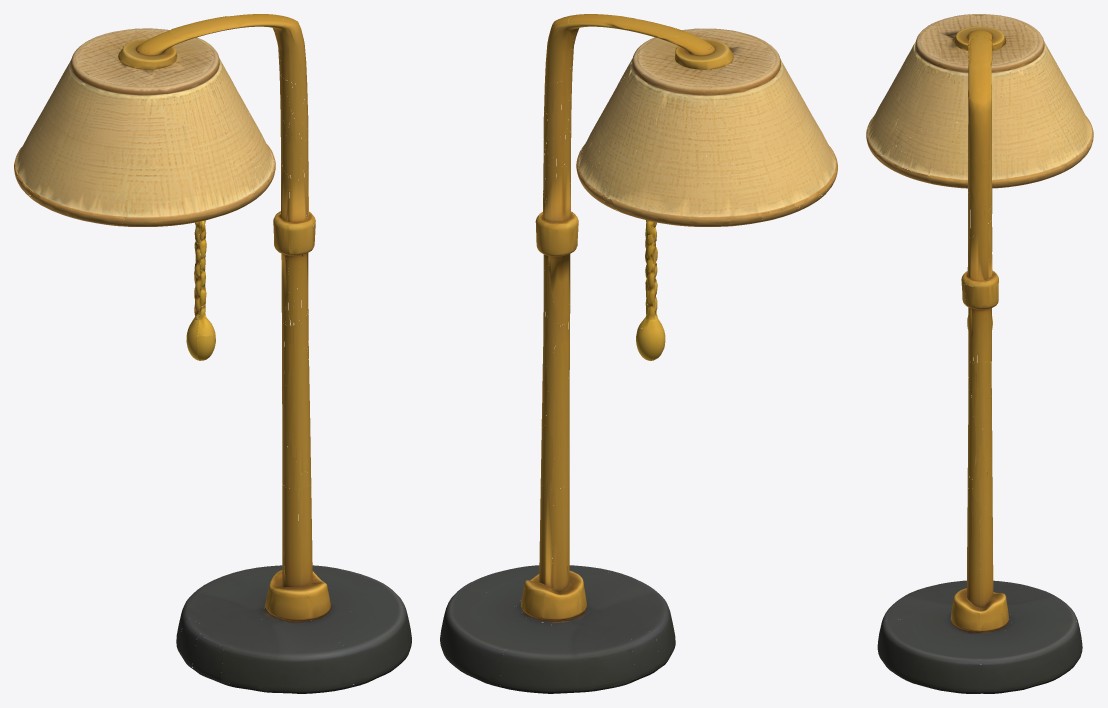
File: lamp.parts.glb
3 renders of one model, left to right at view 1: azimuth 30°, elevation 25°; view 2: azimuth 150°, elevation 25°; view 3: azimuth 270°, elevation 25°, orthographic. The views are drawn at different scales.
Parts seen in each view (by area): view 1: body, cord; view 2: body, cord; view 3: body.
Boxes of the visible parts, x1,y1,x2,y2 form: body: (14,14,411,693); cord: (186,185,268,360); body: (440,14,837,693); cord: (583,185,665,360); body: (866,14,1093,693).
Size of the model in its own units: 0.5852 by 0.9795 by 0.3582.
Materials: 1 (1 with a texture image).
